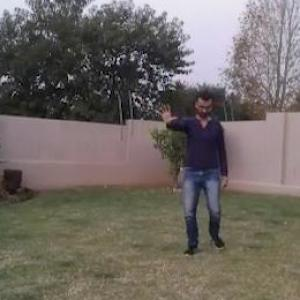follow_hand: (152, 95, 179, 124)
